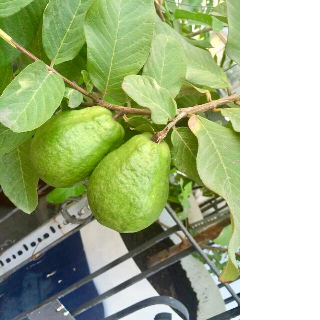oi: (85, 130, 173, 237), (27, 102, 127, 196)
